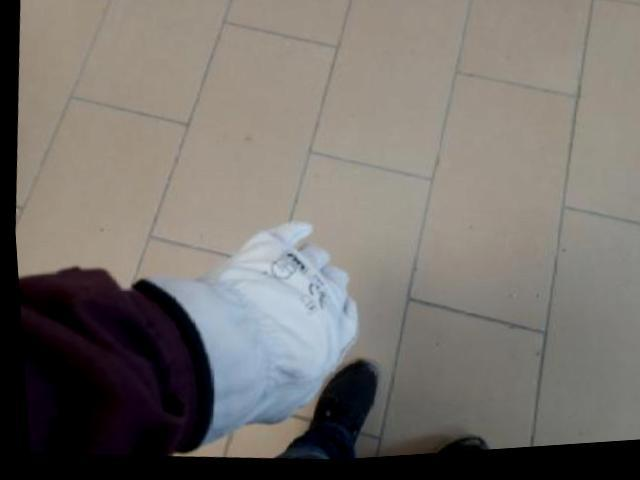Hand-in-Glove: (128, 214, 368, 457)
